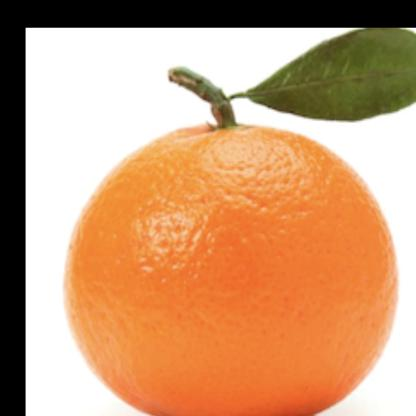rotten: (65, 105, 393, 416)
